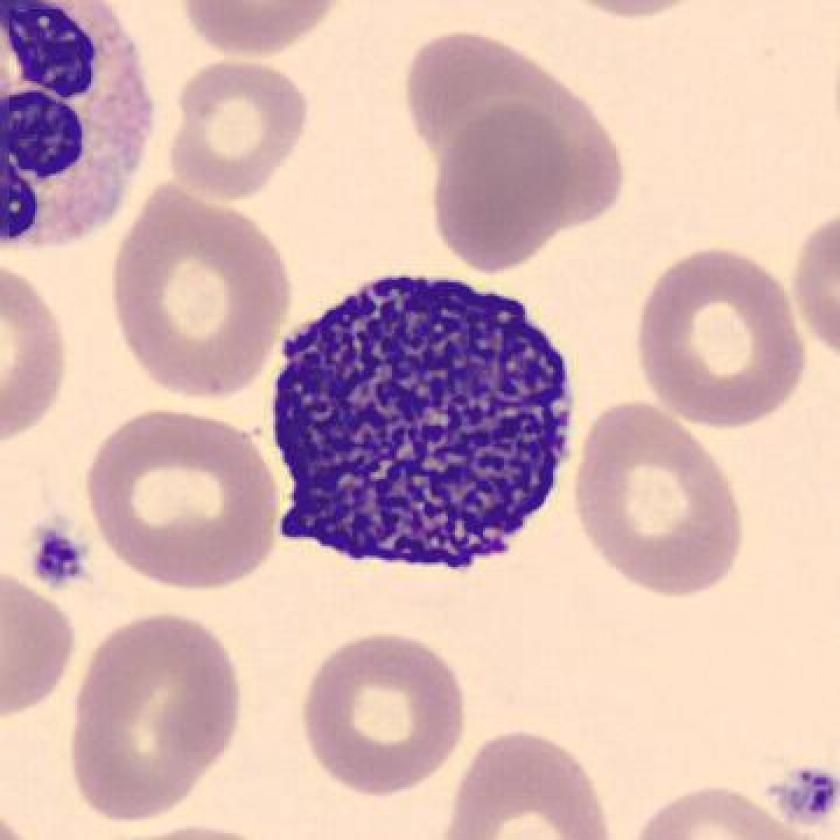basophil: (274, 265, 587, 582), (1, 1, 164, 244)
